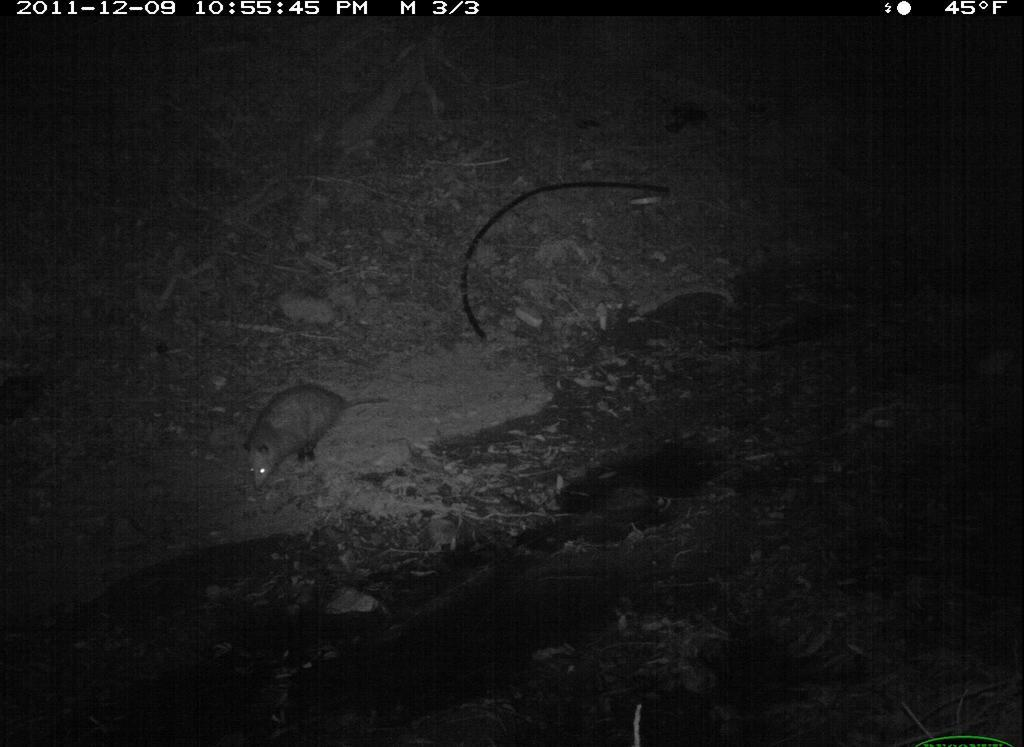opossum: (209, 359, 396, 492)
